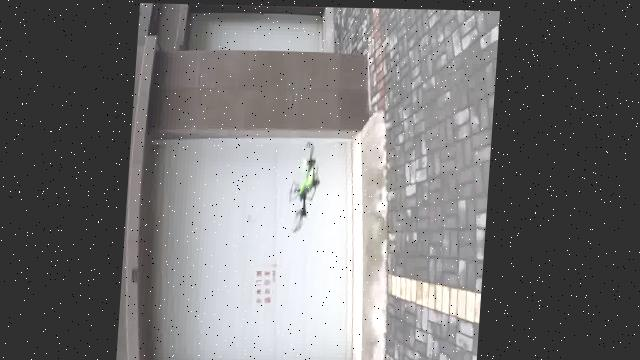drone: (395, 7, 500, 360)
